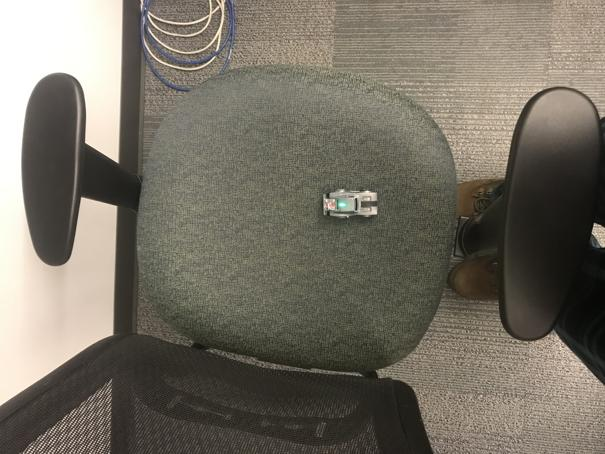Charger: (322, 187, 380, 221)
